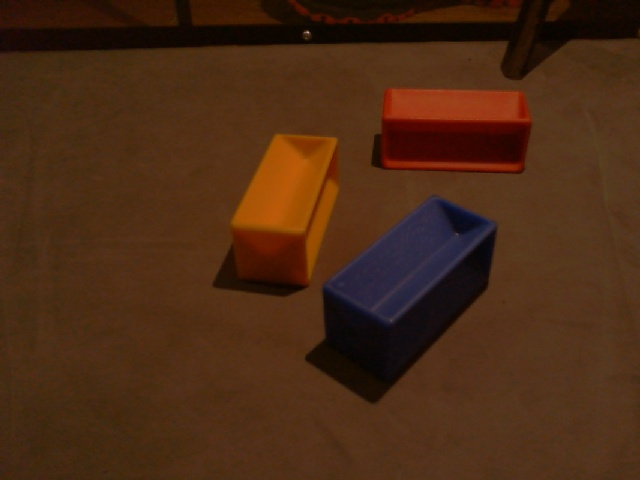BlueSample: (319, 192, 496, 382)
RedSample: (376, 82, 536, 180)
YellowSample: (229, 132, 342, 283)
